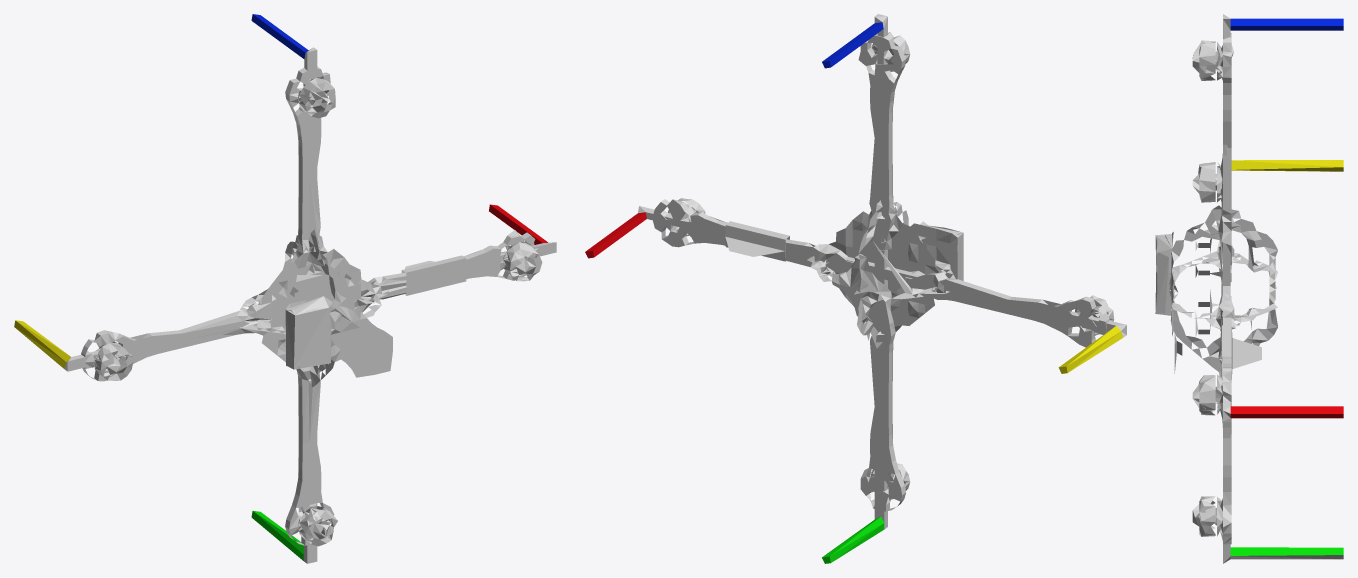
Rendered from hmbirdcolor02.dae.
3 views of the same model, side by side, from view 1: azimuth 30°, elevation 25°; view 2: azimuth 150°, elevation 25°; view 3: azimuth 270°, elevation 25° (orthographic). The views are drawn at different scales.
Parts seen in each view (by area): view 1: Hummingbird06; view 2: Hummingbird06; view 3: Hummingbird06.
Part boxes in pixels (x1=…): Hummingbird06: x1=14, y1=14, x2=556, y2=563; Hummingbird06: x1=585, y1=14, x2=1126, y2=563; Hummingbird06: x1=1155, y1=14, x2=1343, y2=563.
Size of the model in its own units: 0.16 by 0.05 by 0.16.
